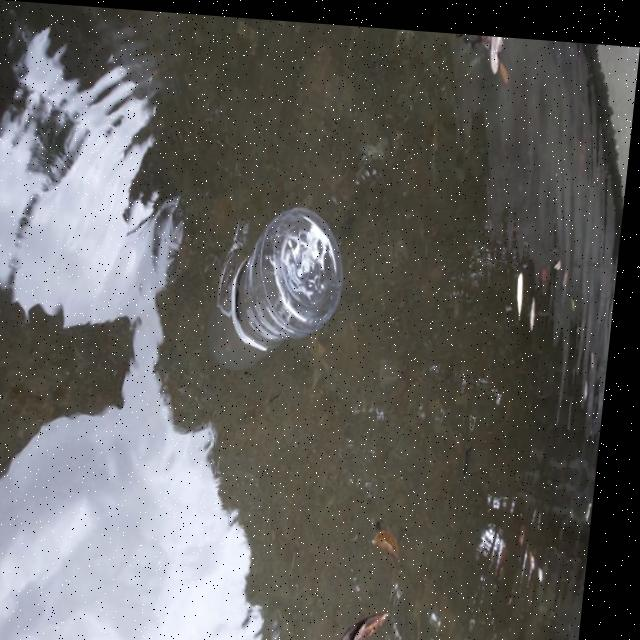waterbottle: (183, 190, 365, 388)
